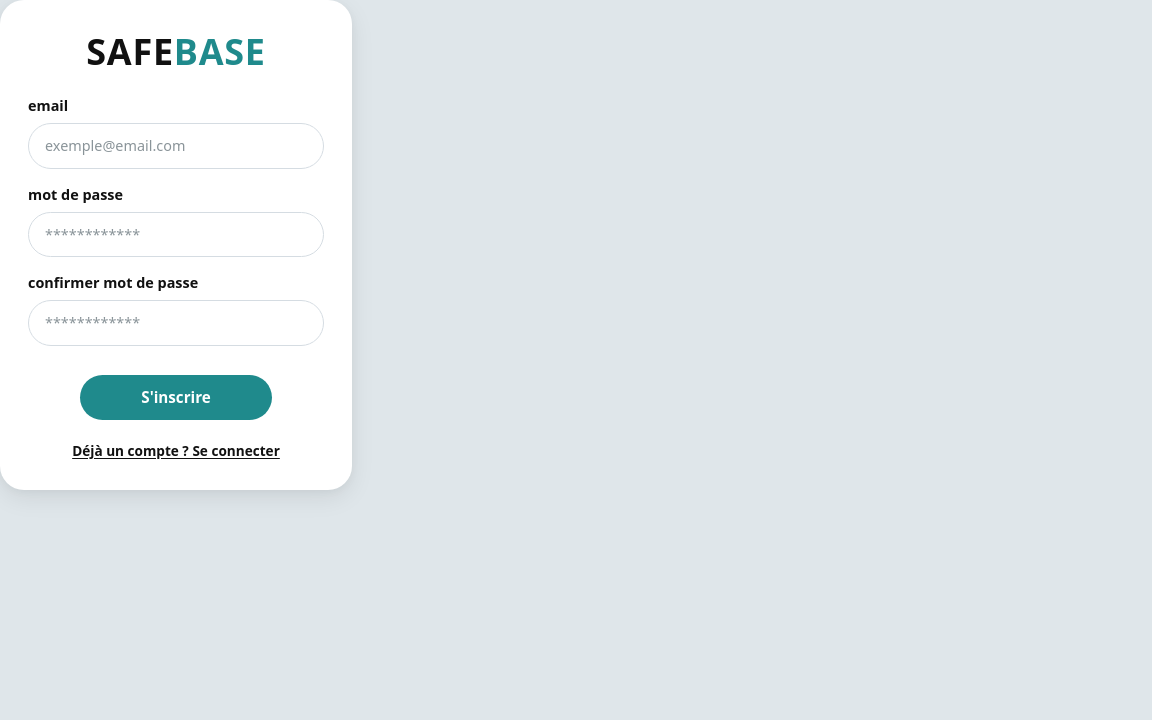
signup › passwords do not match -> message, no account created (US00-03)
This screenshot has width=1152, height=720.
Type "new@safebase.dev" into the field labelled "email".
click(176, 146); type("new@safebase.dev")  # box [28,123,324,169]
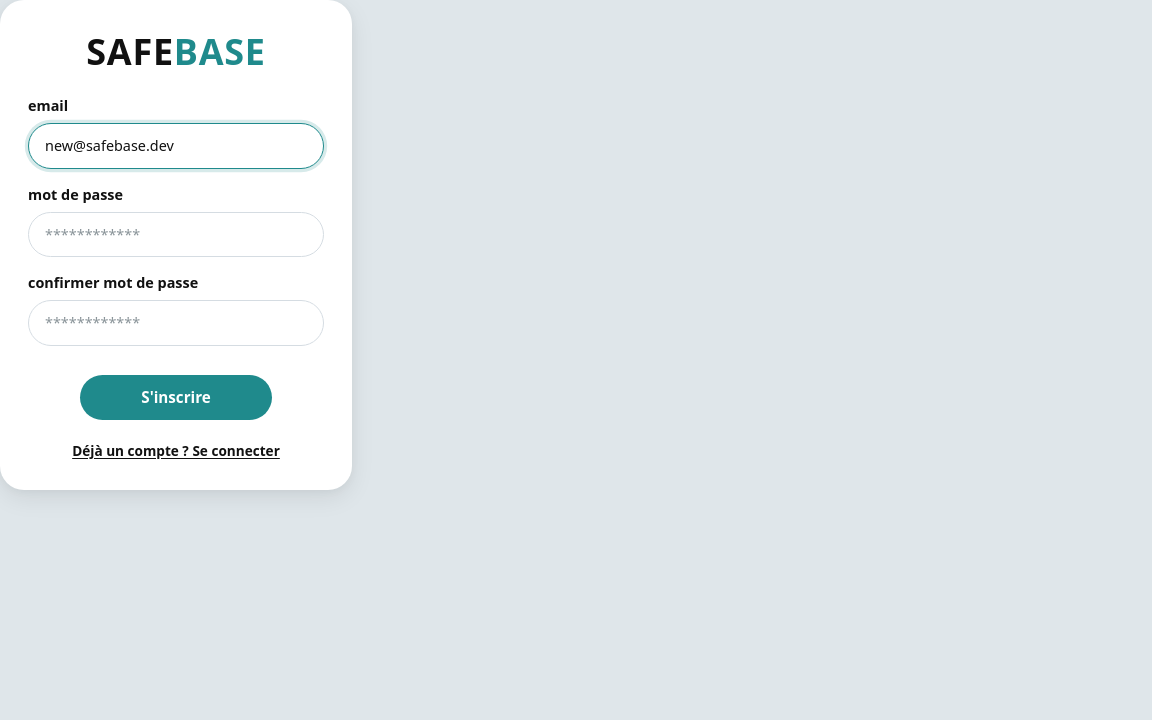
Type "secret123" into the password field labelled "mot de passe".
click(176, 234); type("secret123")  # box [28,212,324,258]
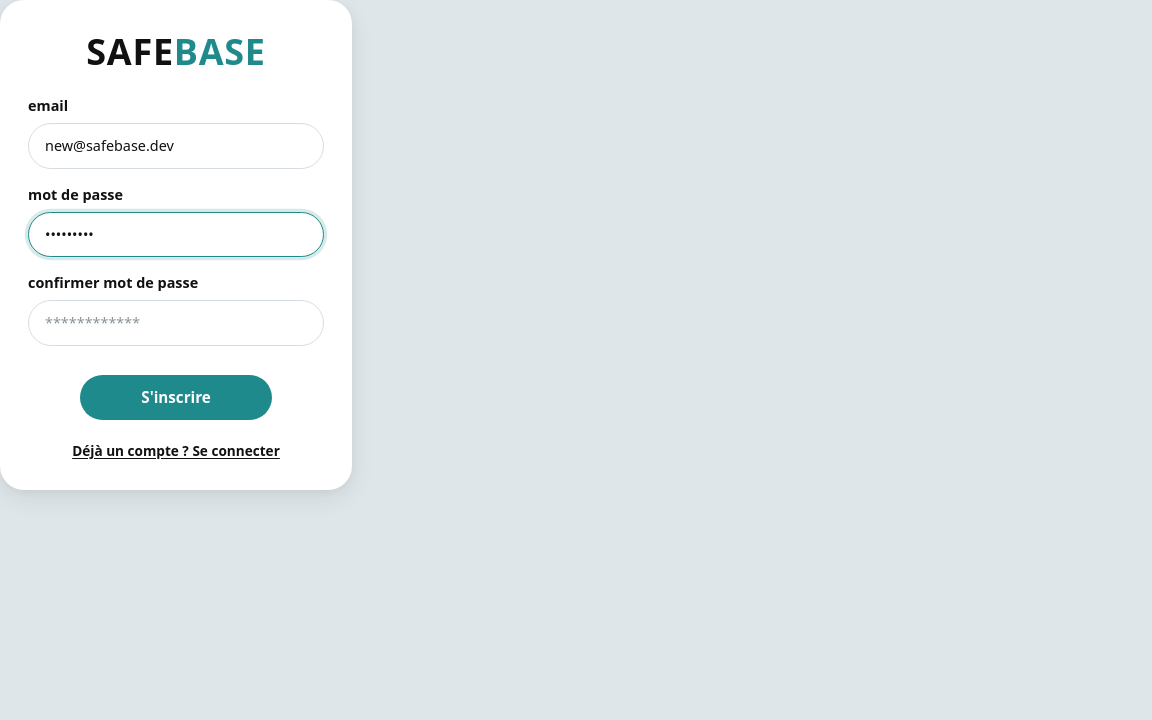
Type "other123" into the password field labelled "confirmer mot de passe".
click(176, 323); type("other123")  # box [28,300,324,346]
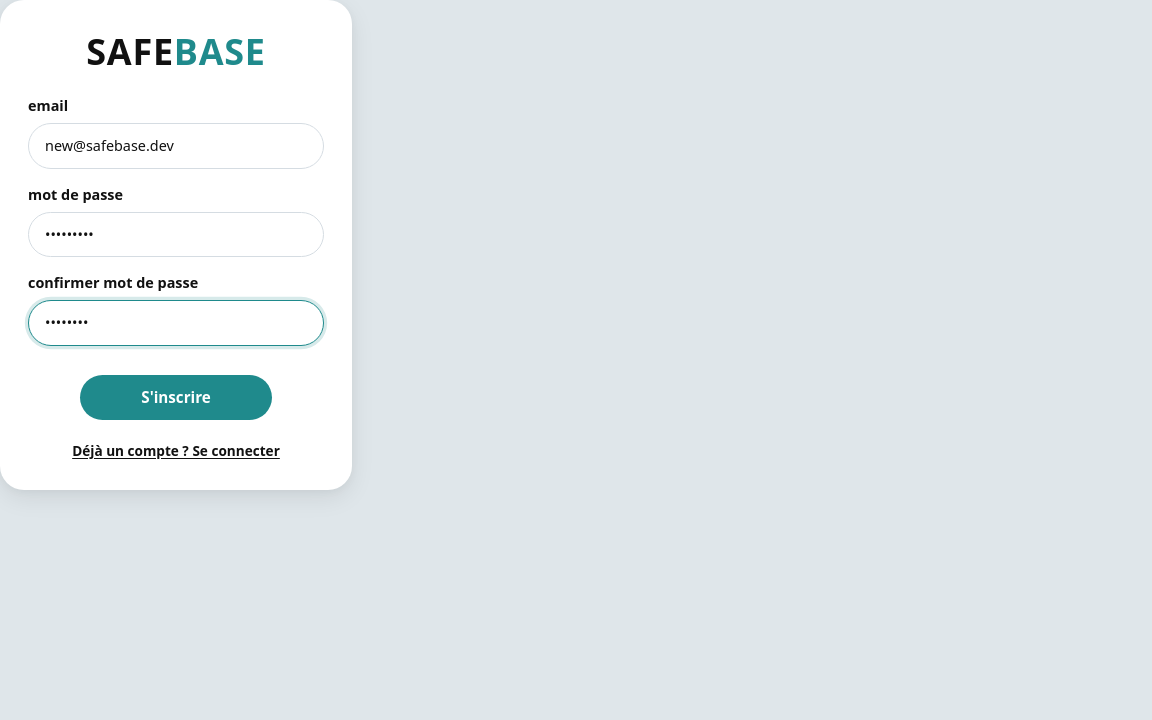
Click the button "S'inscrire".
click(176, 397)  # box [80,375,272,420]
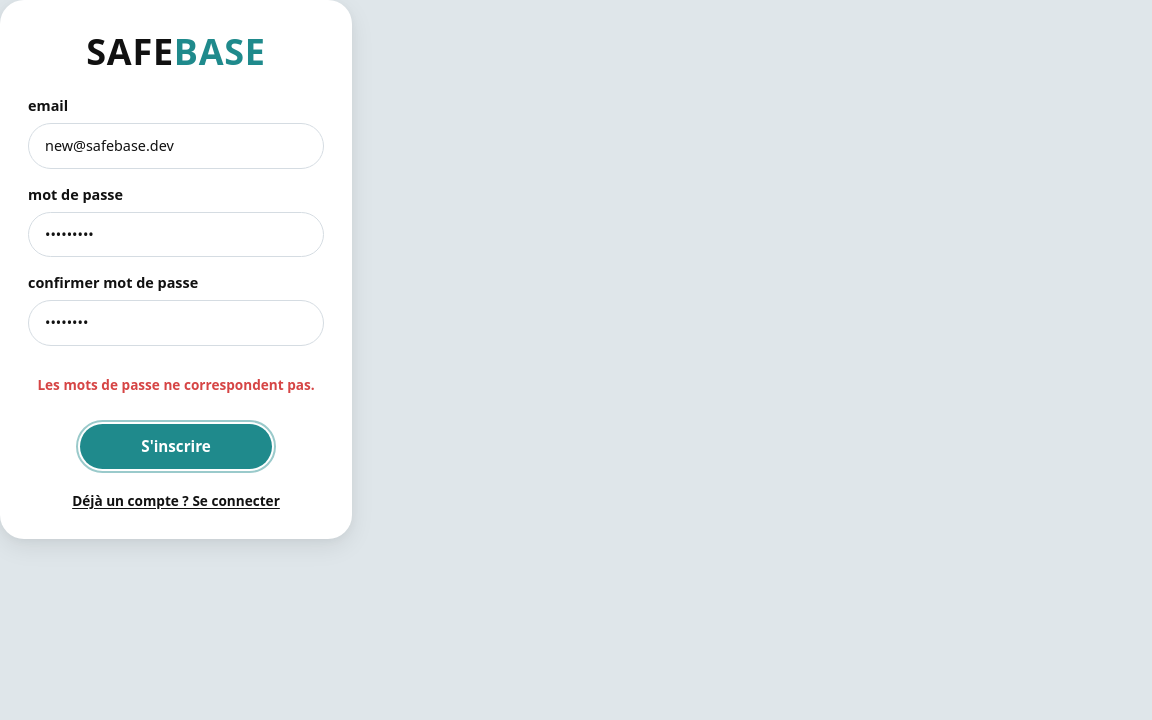
Expected: the text "Les mots de passe ne correspondent pas." is shown, [28,375,324,395]
